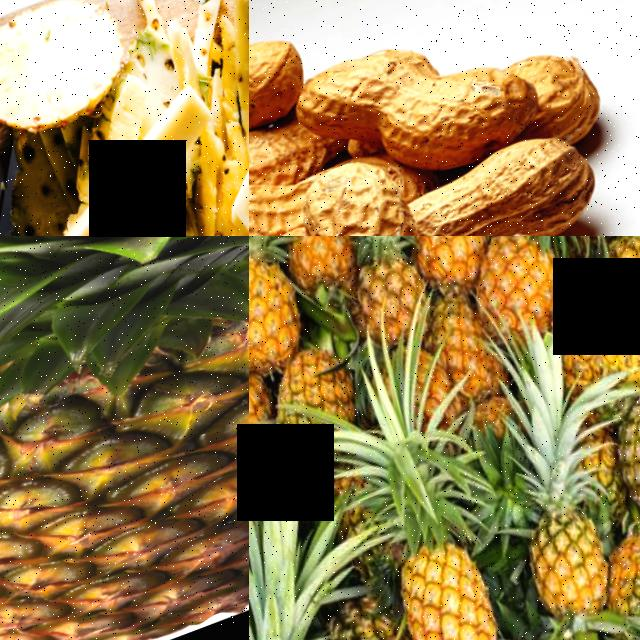peanuts: (374, 40, 557, 184), (409, 118, 617, 236), (278, 146, 478, 236), (249, 22, 325, 184), (249, 167, 313, 236)
pineapple: (0, 236, 249, 640), (372, 483, 531, 640), (507, 466, 640, 638), (535, 266, 640, 434), (457, 236, 592, 365), (261, 236, 390, 338), (249, 236, 328, 389), (300, 582, 464, 640), (382, 236, 514, 304), (607, 374, 640, 542), (589, 236, 640, 343)
